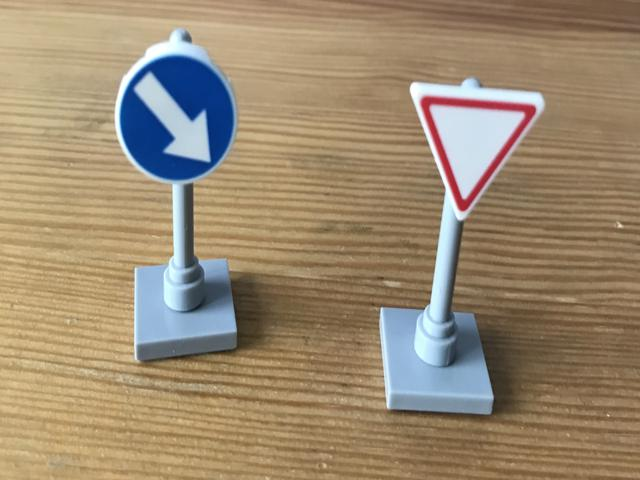rechts halten: (114, 50, 244, 183)
vorfahrt gewähren: (405, 87, 543, 218)
